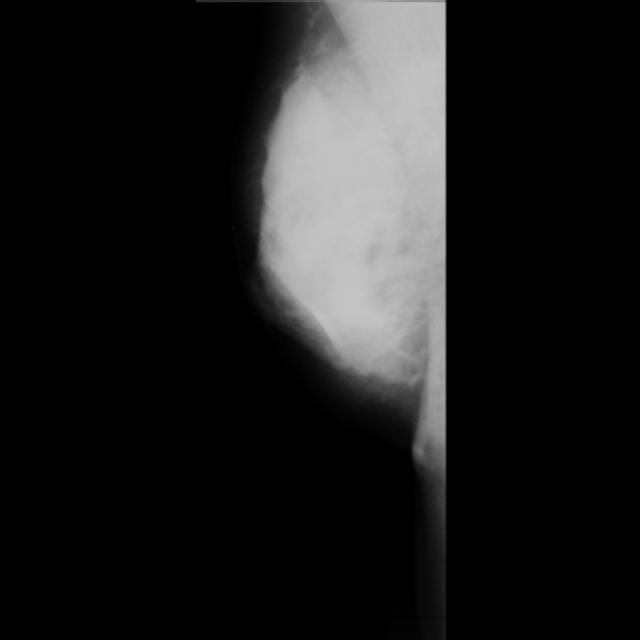SPIC: (333, 277, 417, 361)
